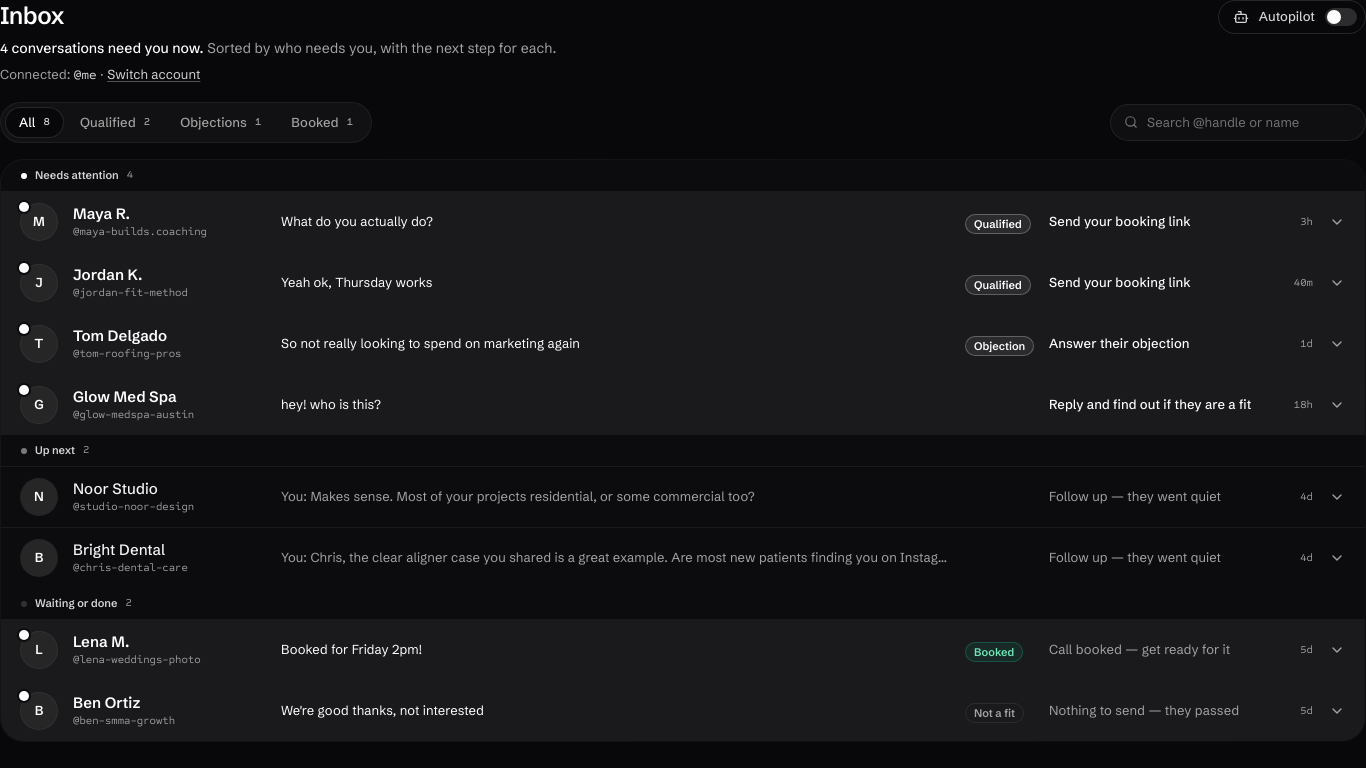
it: InboxView › unfolds a conversation in place with three different replies in full, and Use fills the composer
The width and height of the screenshot is (1366, 768).
Click the button "@maya-builds.coaching".
click(39, 222)  # box [1,192,1365,252]
(page scrolled)
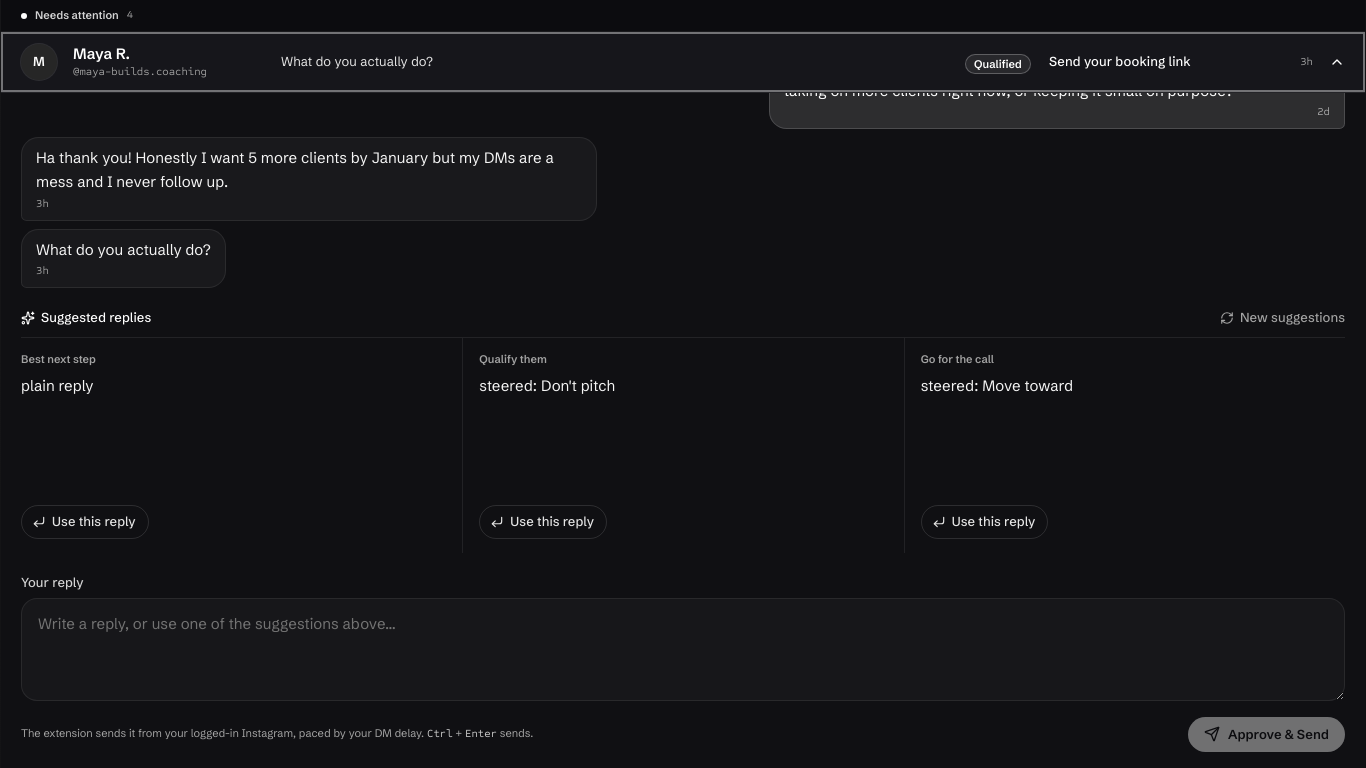
Expected: the text "plain reply" is shown, [21,376,94,395]
Expected: the text "steered: Don't pitch" is shown 2 times, [479,376,615,395]; [921,376,1073,395]
Expected: the text box labelled "Your reply" is empty, [21,598,1345,701]
Click the button "Use this reply" below "Best next step".
click(85, 522)  # box [21,505,149,539]
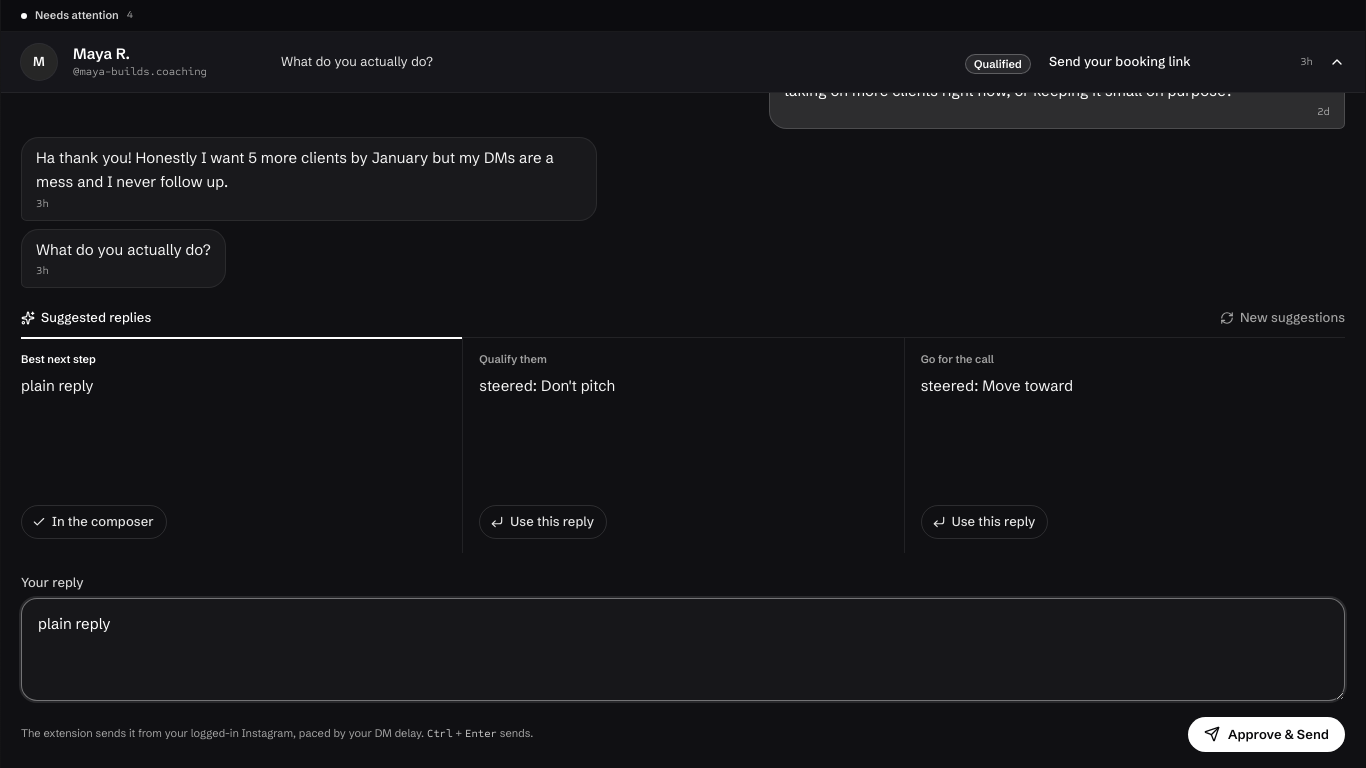
Expected: the text box labelled "Your reply" holds "plain reply", [21,598,1345,701]
Expected: the button "In the composer" is shown, [21,505,167,539]
